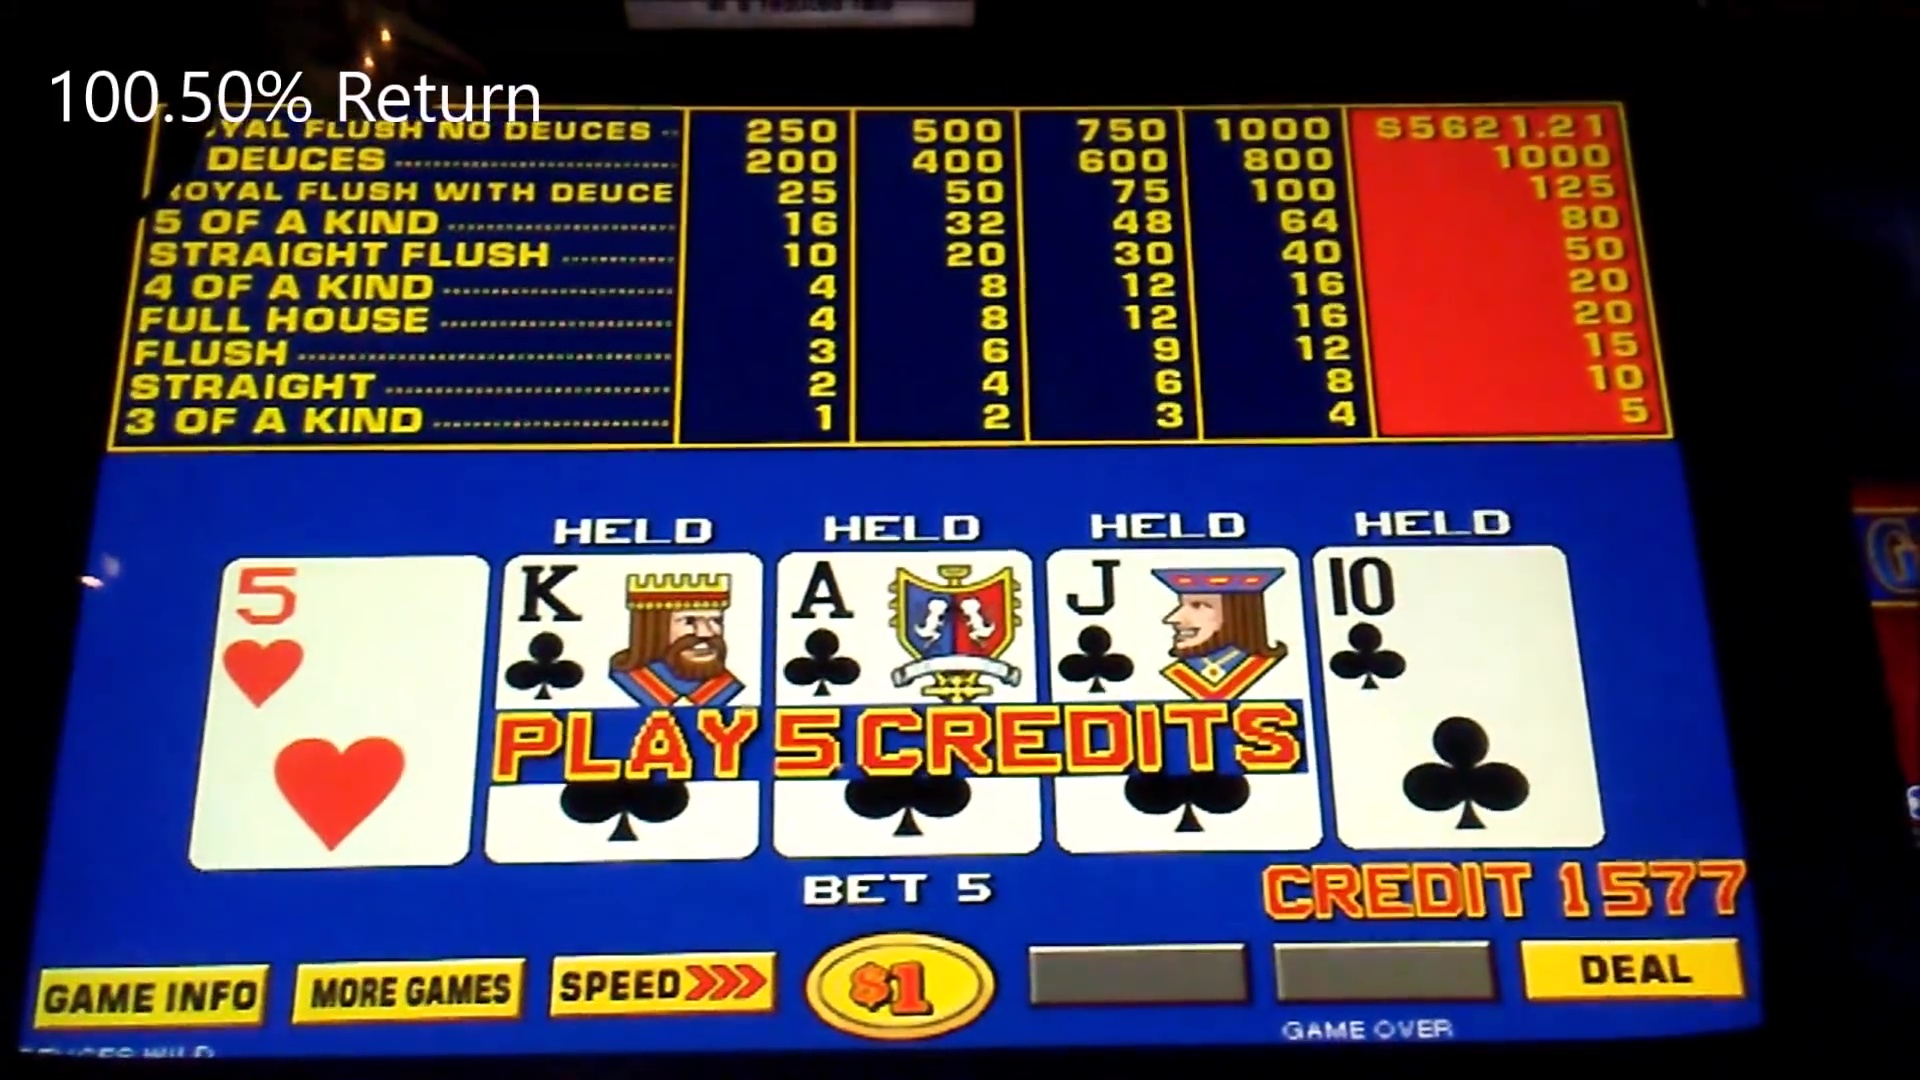5H: (218, 560, 483, 720)
AC: (781, 553, 1030, 698)
JC: (1056, 549, 1302, 694)
KC: (495, 555, 760, 704)
TC: (1323, 547, 1571, 709)
